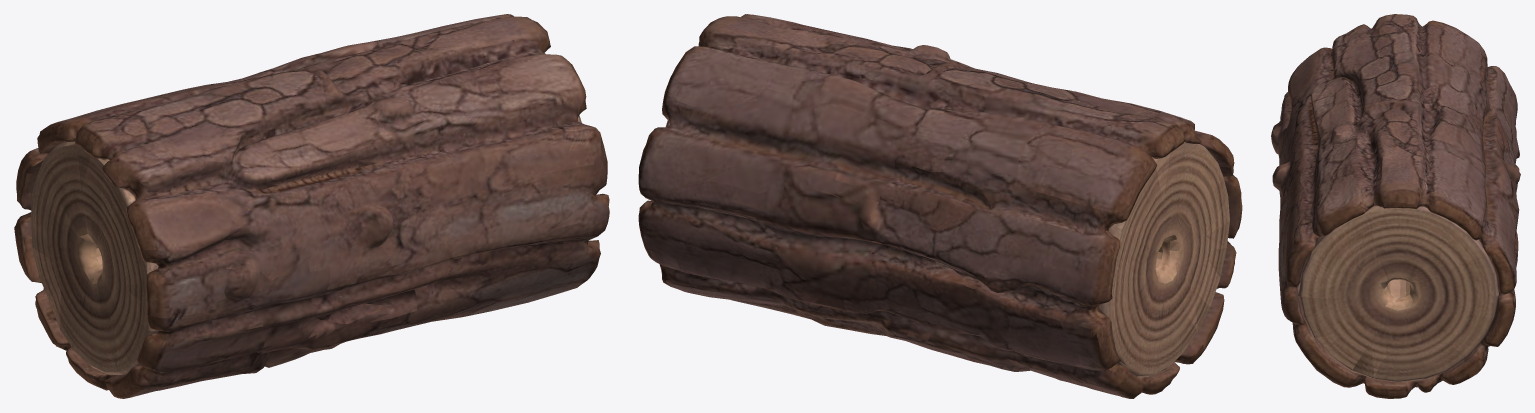
File: log.glb
The picture shows the model from 3 angles, left to right: view 1: azimuth 30°, elevation 25°; view 2: azimuth 150°, elevation 25°; view 3: azimuth 270°, elevation 25°; orthographic projection. The views are drawn at different scales.
Bounding box in the file's own units: 1 × 0.5488 × 0.5801.
Materials: 1 (1 with a texture image).
